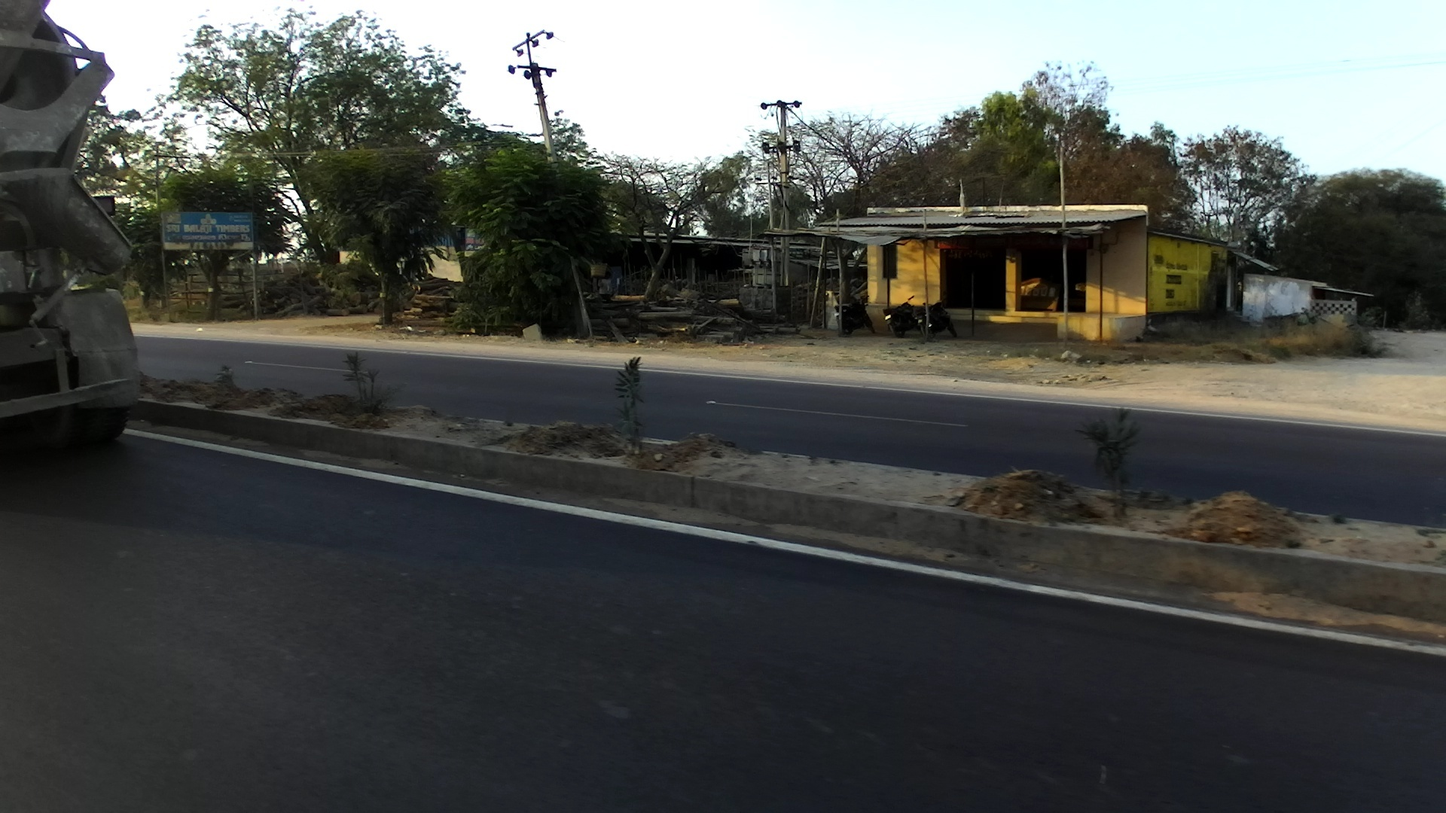motorcycle: (912, 294, 956, 341), (831, 293, 875, 335), (883, 294, 921, 339)
truck: (1, 1, 144, 447)
